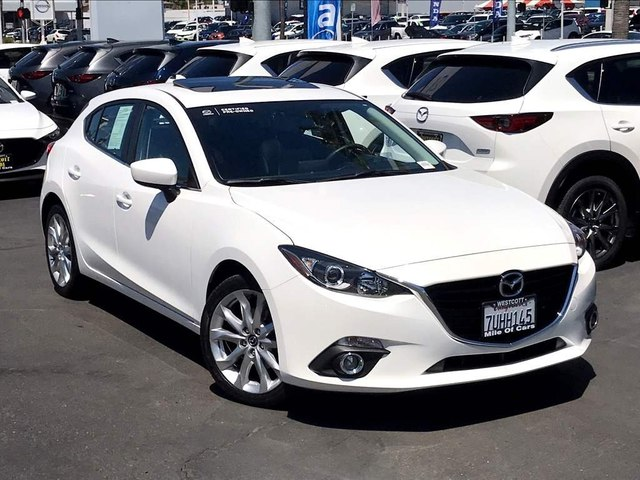Mazda3 Hatchback: (38, 76, 598, 410)
